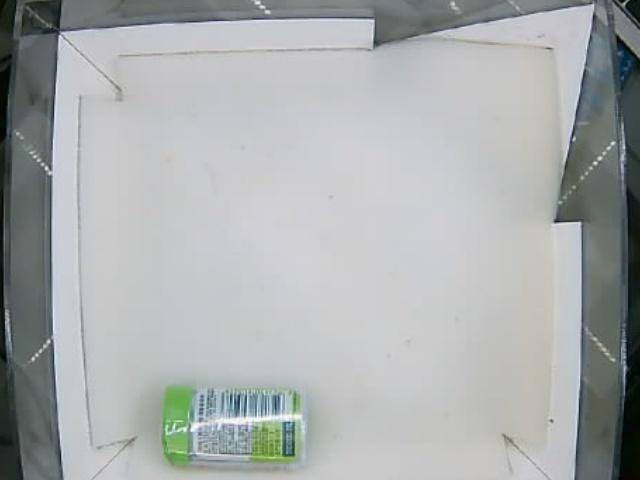Bottle: (160, 384, 306, 472)
